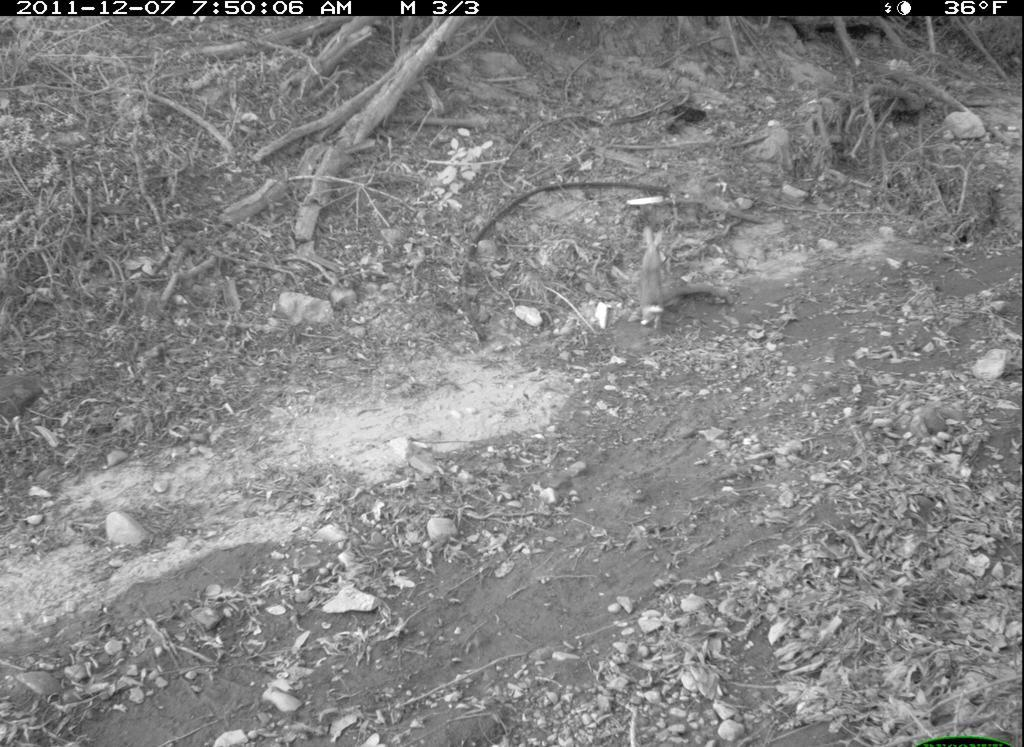rabbit: (633, 228, 671, 329)
